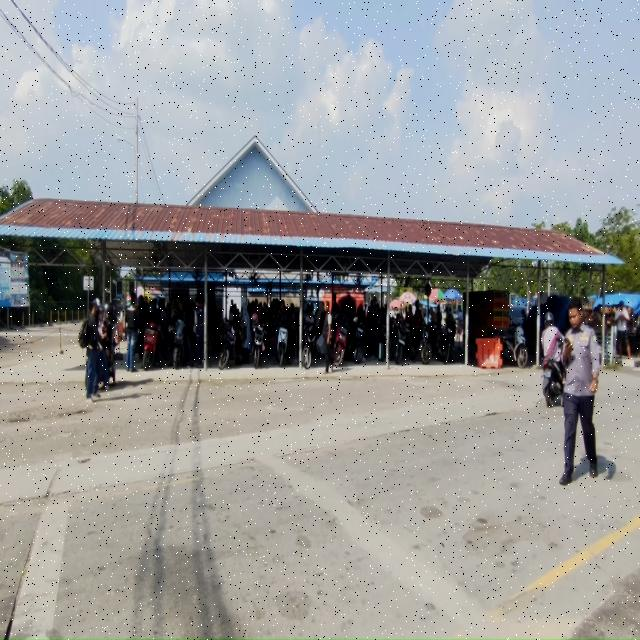Golongan II: (503, 325, 528, 369), (542, 358, 564, 408), (218, 319, 236, 370), (142, 322, 159, 371), (302, 324, 319, 369), (438, 322, 456, 364), (170, 319, 185, 369), (395, 318, 410, 365), (252, 322, 266, 369), (334, 318, 347, 367), (419, 321, 433, 365), (275, 326, 289, 367), (353, 317, 365, 363)
